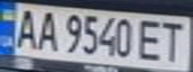0: (115, 16, 139, 60)
4: (97, 14, 118, 57)
5: (78, 11, 100, 56)
9: (60, 10, 84, 54)
A: (9, 6, 39, 49), (33, 7, 60, 52)
E: (136, 17, 166, 62)
T: (157, 18, 190, 63)
